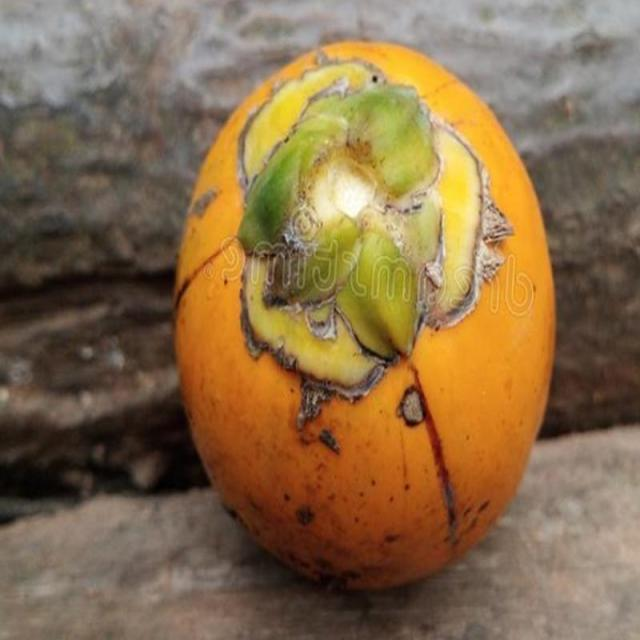good: (173, 41, 558, 595)
